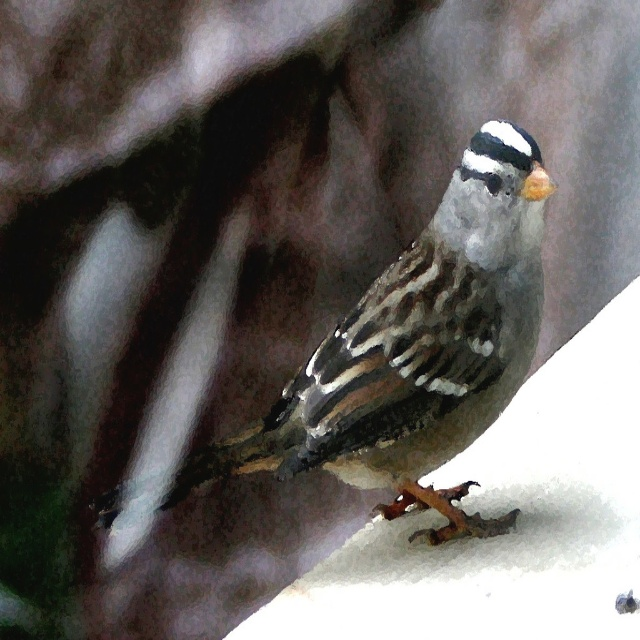Sparrow: (90, 121, 558, 548)
